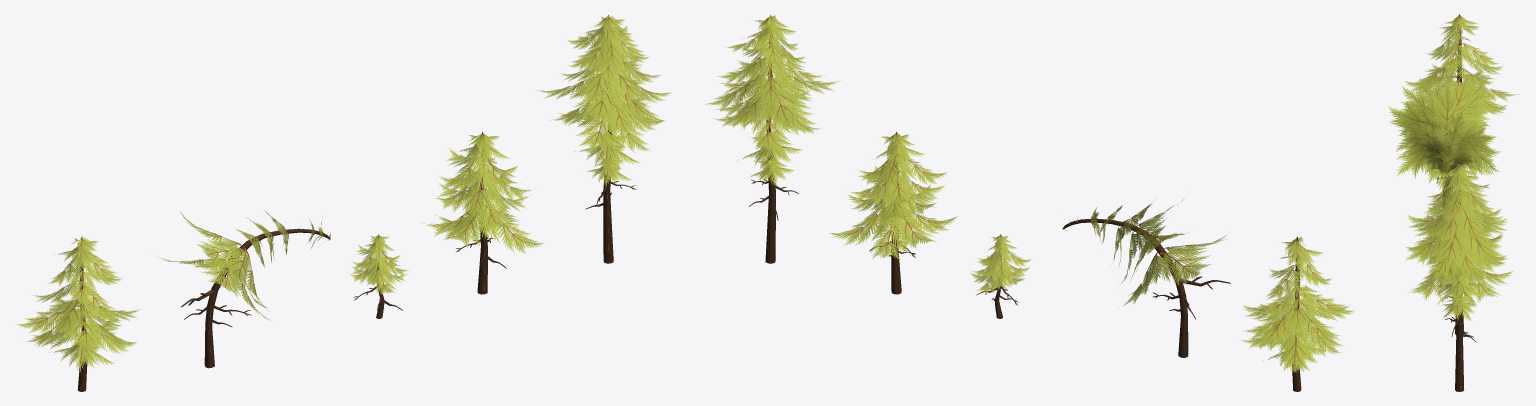
File: tree-pine.glb
The picture shows the model from 3 angles, left to right: view 1: azimuth 30°, elevation 25°; view 2: azimuth 150°, elevation 25°; view 3: azimuth 270°, elevation 25°; orthographic projection. The views are drawn at different scales.
Parts seen in each view (by area): view 1: PineTree_2, PineTree_5, PineTree_1, PineTree_4, PineTree_3; view 2: PineTree_2, PineTree_1, PineTree_5, PineTree_4, PineTree_3; view 3: PineTree_2, PineTree_4, PineTree_5, PineTree_1.
Boxes of the visible parts, box(x1,y1,x2,y2) form: PineTree_2: box(536, 15, 671, 263); PineTree_5: box(16, 236, 141, 391); PineTree_1: box(422, 131, 543, 294); PineTree_4: box(159, 210, 330, 368); PineTree_3: box(350, 234, 408, 318); PineTree_2: box(704, 14, 840, 263); PineTree_1: box(829, 131, 957, 294); PineTree_5: box(1239, 236, 1355, 391); PineTree_4: box(1062, 198, 1230, 357); PineTree_3: box(970, 234, 1030, 318); PineTree_2: box(1405, 164, 1507, 391); PineTree_4: box(1388, 73, 1500, 208); PineTree_5: box(1405, 14, 1519, 129); PineTree_1: box(1407, 192, 1513, 334).
Size of the model in its own units: 18.69 by 6.92 by 3.74.
2 materials, 2 textured.
